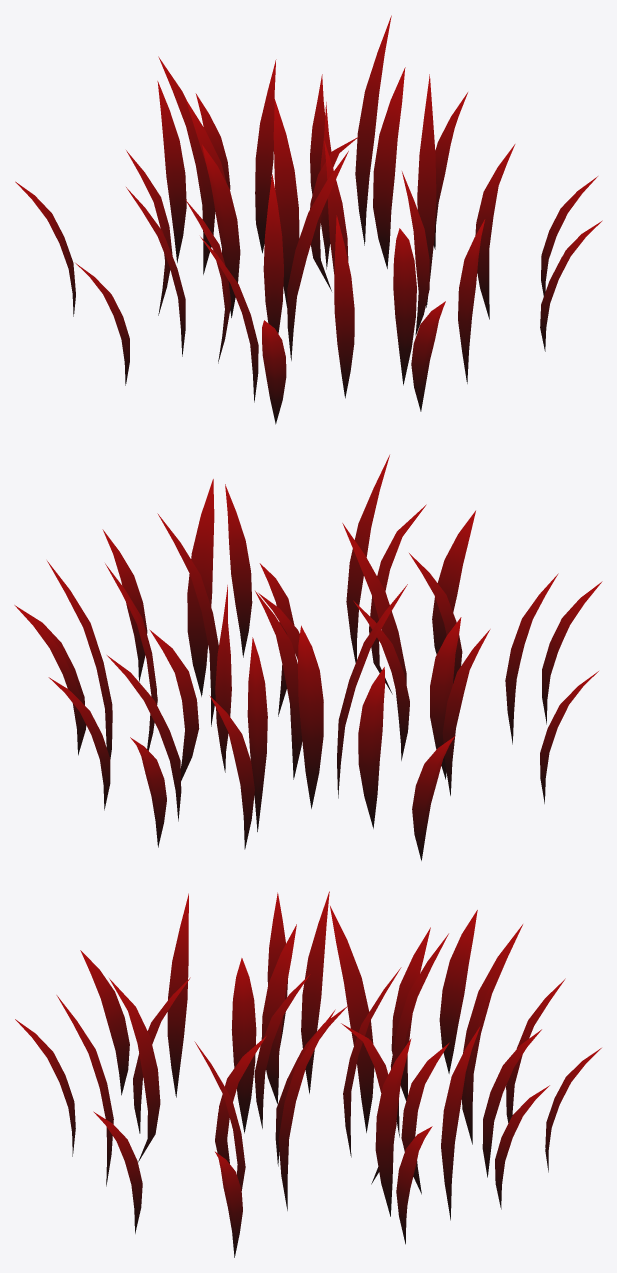
The model's file is Grass.fbx.
The picture shows the model from 3 angles, top to bottom: view 1: azimuth 30°, elevation 25°; view 2: azimuth 150°, elevation 25°; view 3: azimuth 270°, elevation 25°; orthographic projection. The views are drawn at different scales.
Parts seen in each view (by area): view 1: Grass; view 2: Grass; view 3: Grass.
Part boxes in pixels (x1,y1,x2,y2): Grass: [15, 15, 602, 424]; Grass: [14, 455, 602, 860]; Grass: [15, 891, 601, 1257].
Size of the model in its own units: 3.37 by 1.38 by 3.38.
